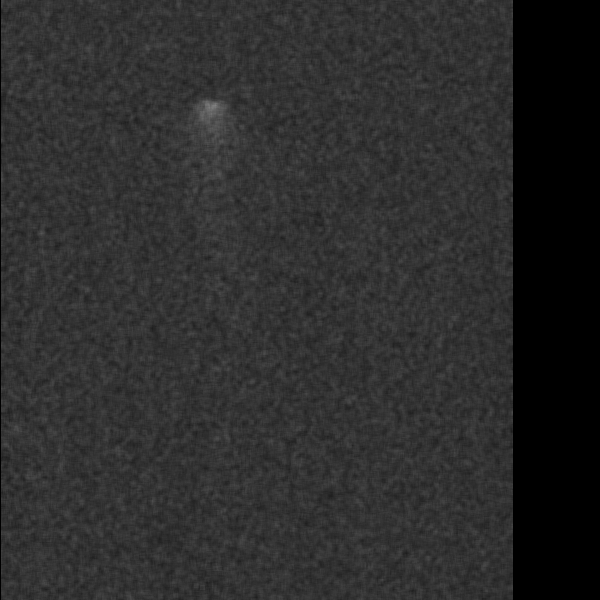spark: (189, 94, 227, 161)
